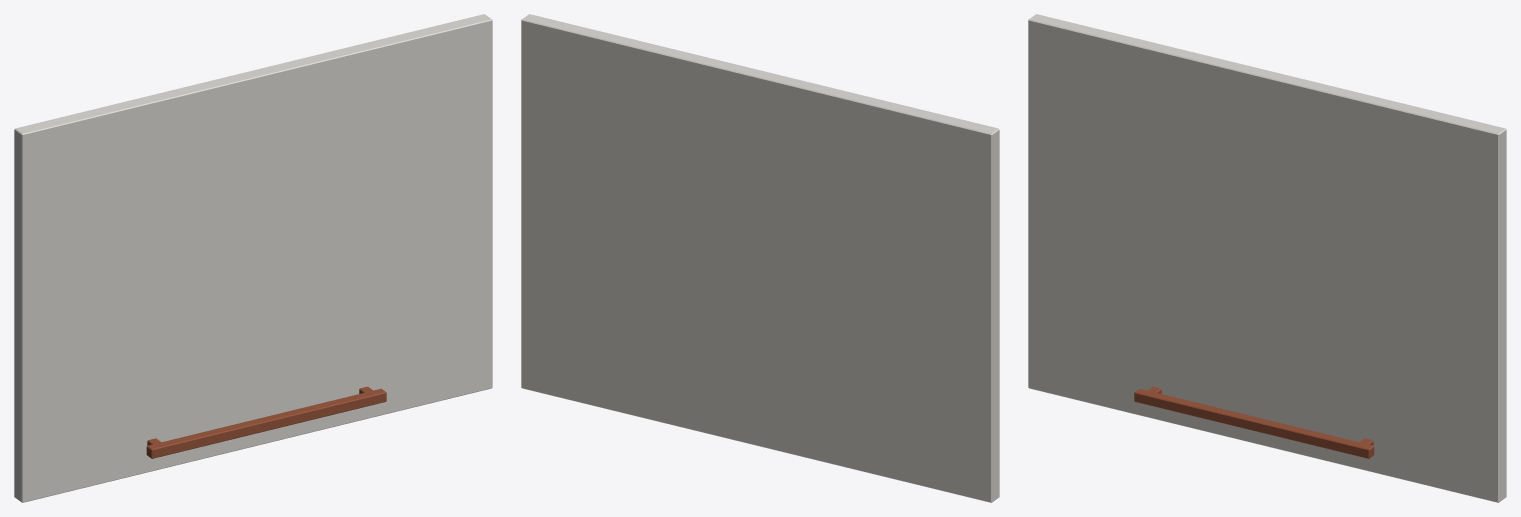
File: kitchen_run_cabinets_long_w5_flap.glb
3 views of the same model, side by side, from view 1: azimuth 30°, elevation 25°; view 2: azimuth 150°, elevation 25°; view 3: azimuth 330°, elevation 25° (orthographic).
Parts seen in each view (by area): view 1: kitchen_run_cabinets_long_w5_flap; view 2: kitchen_run_cabinets_long_w5_flap; view 3: kitchen_run_cabinets_long_w5_flap.
Boxes of the visible parts, x1,y1,x2,y2 form: kitchen_run_cabinets_long_w5_flap: (14, 14, 492, 502); kitchen_run_cabinets_long_w5_flap: (521, 14, 999, 502); kitchen_run_cabinets_long_w5_flap: (1028, 14, 1506, 502).
Size of the model in its own units: 0.597 by 0.447 by 0.044.
